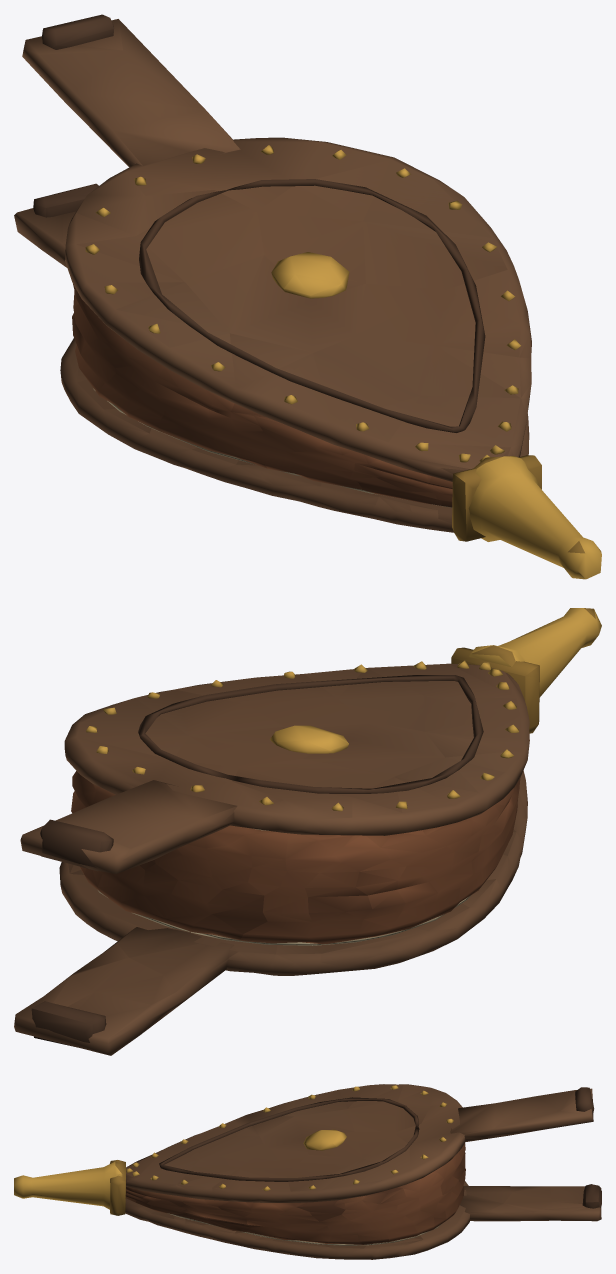
Rendered from ember_bellows_lod2.glb.
The picture shows the model from 3 angles, top to bottom: view 1: azimuth 30°, elevation 25°; view 2: azimuth 150°, elevation 25°; view 3: azimuth 270°, elevation 25°; orthographic projection. The views are drawn at different scales.
Parts seen in each view (by area): view 1: bellows_top.001, ember_bellows.001; view 2: ember_bellows.001, bellows_top.001; view 3: bellows_top.001, ember_bellows.001.
Boxes of the visible parts, <box> form: bellows_top.001: <box>22,14,531,481</box>; ember_bellows.001: <box>14,183,601,579</box>; ember_bellows.001: <box>14,608,601,1055</box>; bellows_top.001: <box>20,660,529,873</box>; bellows_top.001: <box>126,1084,594,1202</box>; ember_bellows.001: <box>14,1143,601,1259</box>.
Size of the model in its own units: 27.19 by 14.33 by 65.06.
